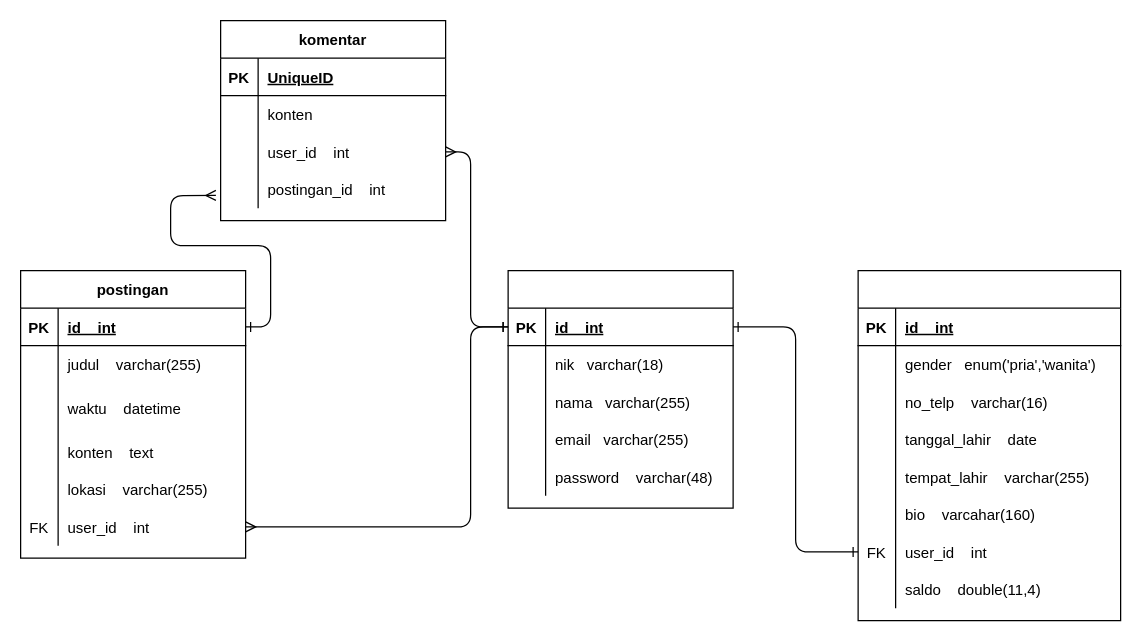
The diagram is 1141 pixels wide and 641 high, and some of its shapes have lost their labels. Each missing label, with the box of its shape:
profile: (857, 269, 1121, 621)
users: (507, 269, 733, 508)
